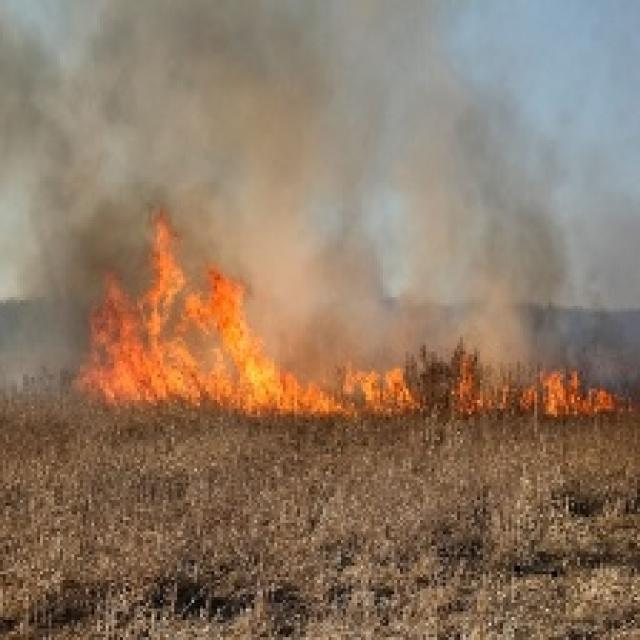Fire: (73, 214, 310, 415), (312, 360, 413, 412), (529, 368, 611, 416)
Smoke: (2, 0, 530, 208), (316, 209, 564, 356)
